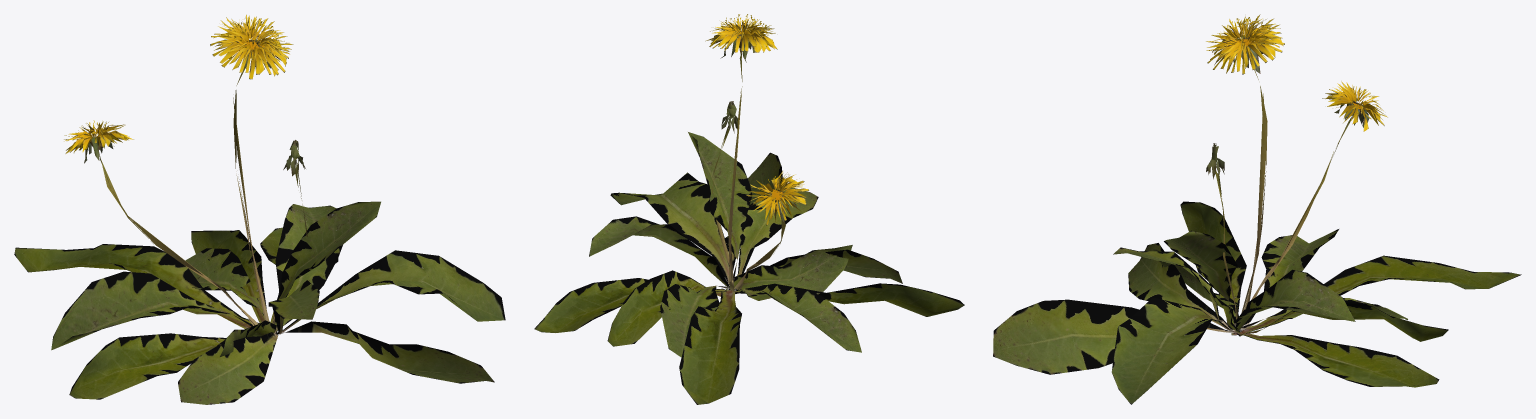
The model's file is dandelion.glb.
The picture shows the model from 3 angles, left to right: view 1: azimuth 30°, elevation 25°; view 2: azimuth 150°, elevation 25°; view 3: azimuth 270°, elevation 25°; orthographic projection. The views are drawn at different scales.
Parts seen in each view (by area): view 1: dandelion_01_a_LOD0; view 2: dandelion_01_a_LOD0; view 3: dandelion_01_a_LOD0.
Boxes of the visible parts, box(x1,y1,x2,y2) form: dandelion_01_a_LOD0: box(14, 14, 505, 404); dandelion_01_a_LOD0: box(534, 14, 964, 404); dandelion_01_a_LOD0: box(993, 14, 1521, 404).
Size of the model in its own units: 0.1893 by 0.1402 by 0.2166.
Materials: 1 (1 with a texture image).
